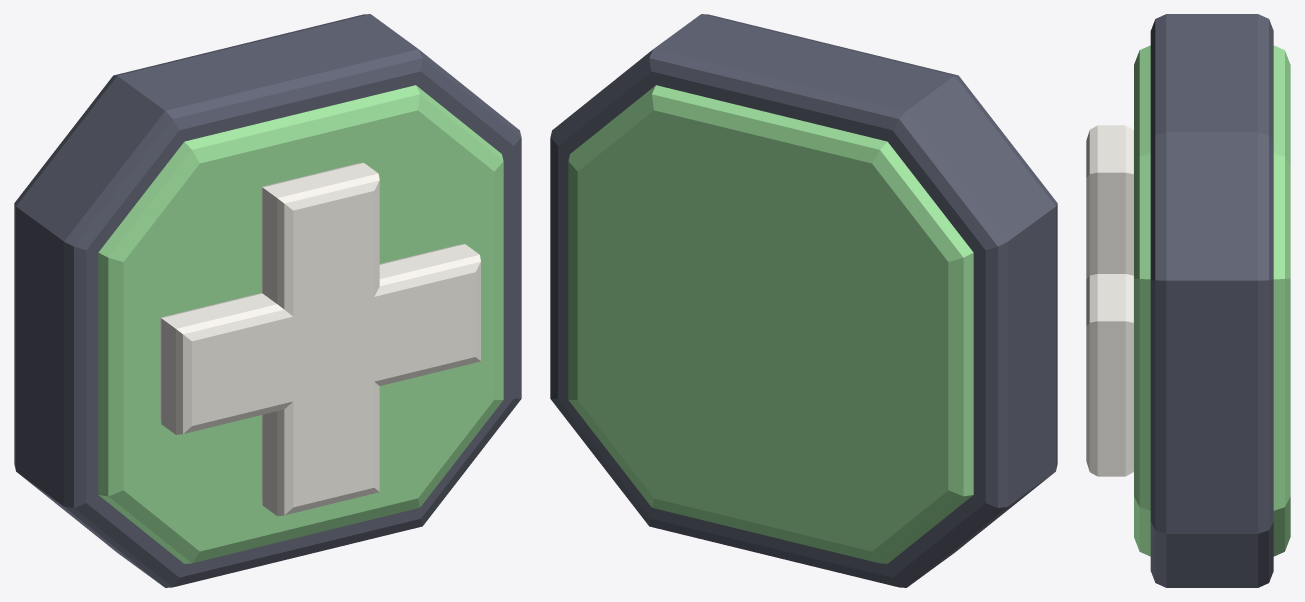
File: game-ui-icon-library-heal-cross-3104cc96__19028.glb
3 views of the same model, side by side, from view 1: azimuth 30°, elevation 25°; view 2: azimuth 150°, elevation 25°; view 3: azimuth 270°, elevation 25° (orthographic). The views are drawn at different scales.
Parts seen in each view (by area): view 1: heal-cross; view 2: heal-cross; view 3: heal-cross.
Boxes of the visible parts, x1,y1,x2,y2 form: heal-cross: (14, 14, 521, 587); heal-cross: (550, 14, 1057, 587); heal-cross: (1086, 14, 1290, 587).
Bounding box in the file's own units: 0.94 × 0.94 × 0.3812.
